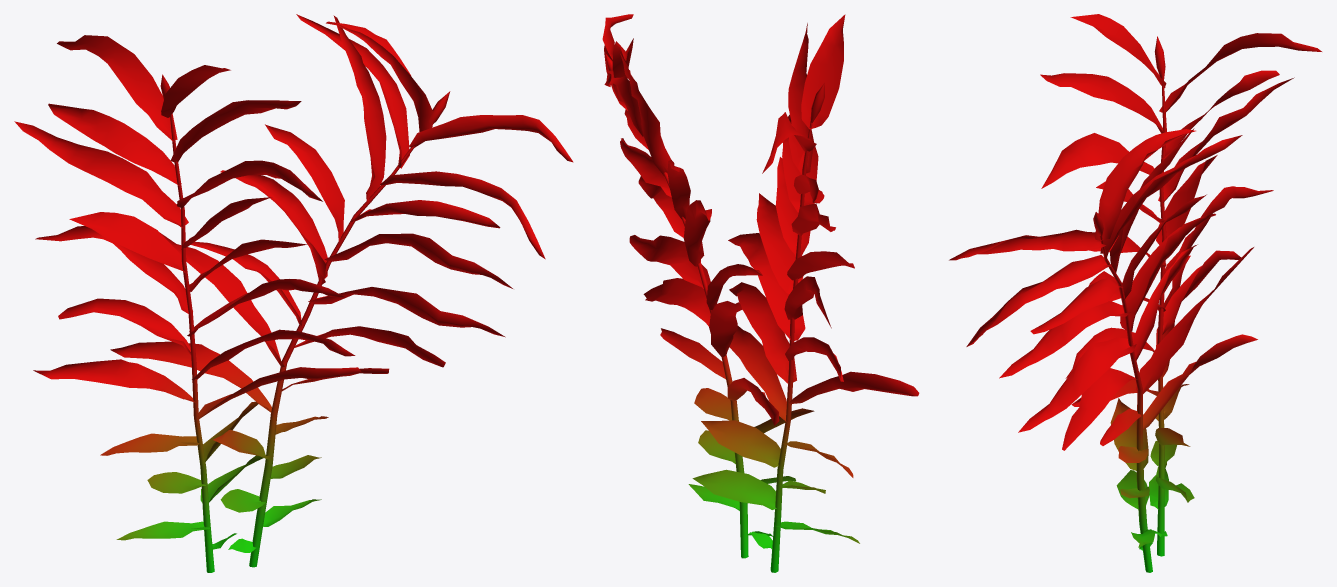
File: F01_GingerLily_03.fbx
3 views of the same model, side by side, from view 1: azimuth 30°, elevation 25°; view 2: azimuth 150°, elevation 25°; view 3: azimuth 270°, elevation 25° (orthographic). The views are drawn at different scales.
Visible parts, largest first — view 1: _6279_Var3_LOD0; view 2: _6279_Var3_LOD0; view 3: _6279_Var3_LOD0.
Boxes of the visible parts, x1=… form: _6279_Var3_LOD0: x1=14, y1=14, x2=573, y2=572; _6279_Var3_LOD0: x1=602, y1=14, x2=919, y2=572; _6279_Var3_LOD0: x1=949, y1=14, x2=1321, y2=572.
Bounding box in the file's own units: 97.91 × 121 × 78.38.
